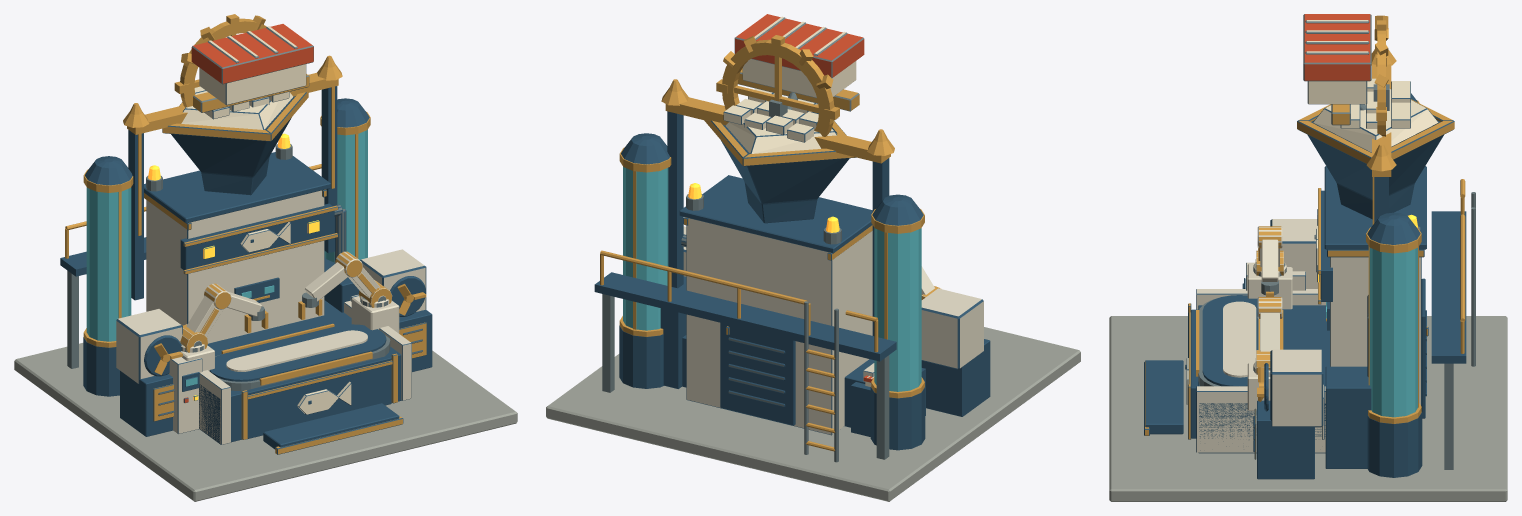
File: auto-sushi-lv4.glb
The picture shows the model from 3 angles, left to right: view 1: azimuth 30°, elevation 25°; view 2: azimuth 150°, elevation 25°; view 3: azimuth 270°, elevation 25°; orthographic projection. The views are drawn at different scales.
Parts seen in each view (by area): view 1: Auto_L4, Crown_Gear_Mesh, Robot_R_Forearm, Robot_L_Upper.001, Robot_L_Forearm.001, Robot_R_Upper; view 2: Auto_L4, Crown_Gear_Mesh; view 3: Auto_L4, Crown_Gear_Mesh, Robot_L_Forearm.001, Robot_R_Upper, Robot_R_Forearm.
Part boxes in pixels (x1,y1,x2,y2): Auto_L4: [14, 24, 517, 501]; Crown_Gear_Mesh: [174, 14, 266, 108]; Robot_R_Forearm: [305, 251, 362, 301]; Robot_L_Upper.001: [180, 296, 223, 352]; Robot_L_Forearm.001: [204, 283, 261, 316]; Robot_R_Upper: [348, 267, 392, 307]; Auto_L4: [546, 14, 1080, 501]; Crown_Gear_Mesh: [716, 35, 839, 136]; Auto_L4: [1109, 14, 1507, 501]; Crown_Gear_Mesh: [1374, 15, 1388, 137]; Robot_L_Forearm.001: [1257, 226, 1282, 281]; Robot_R_Upper: [1255, 313, 1279, 374]; Robot_R_Forearm: [1257, 297, 1282, 318].
Size of the model in its own units: 5.7 by 5.99 by 5.5.
